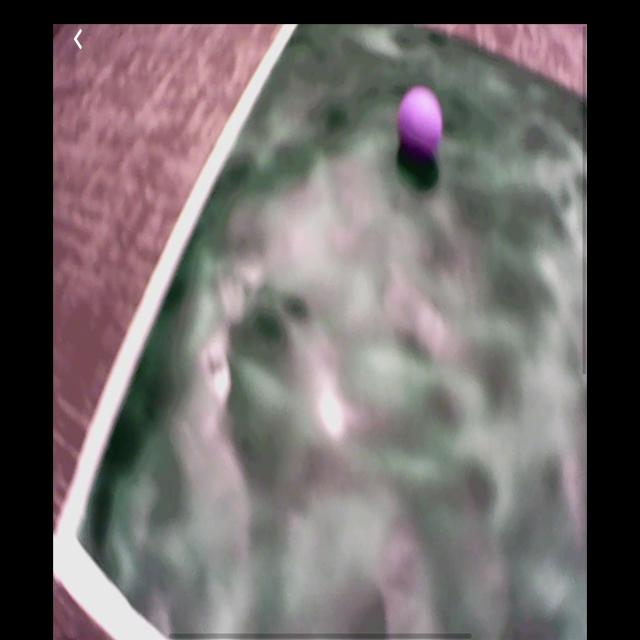ball: (400, 90, 445, 154)
